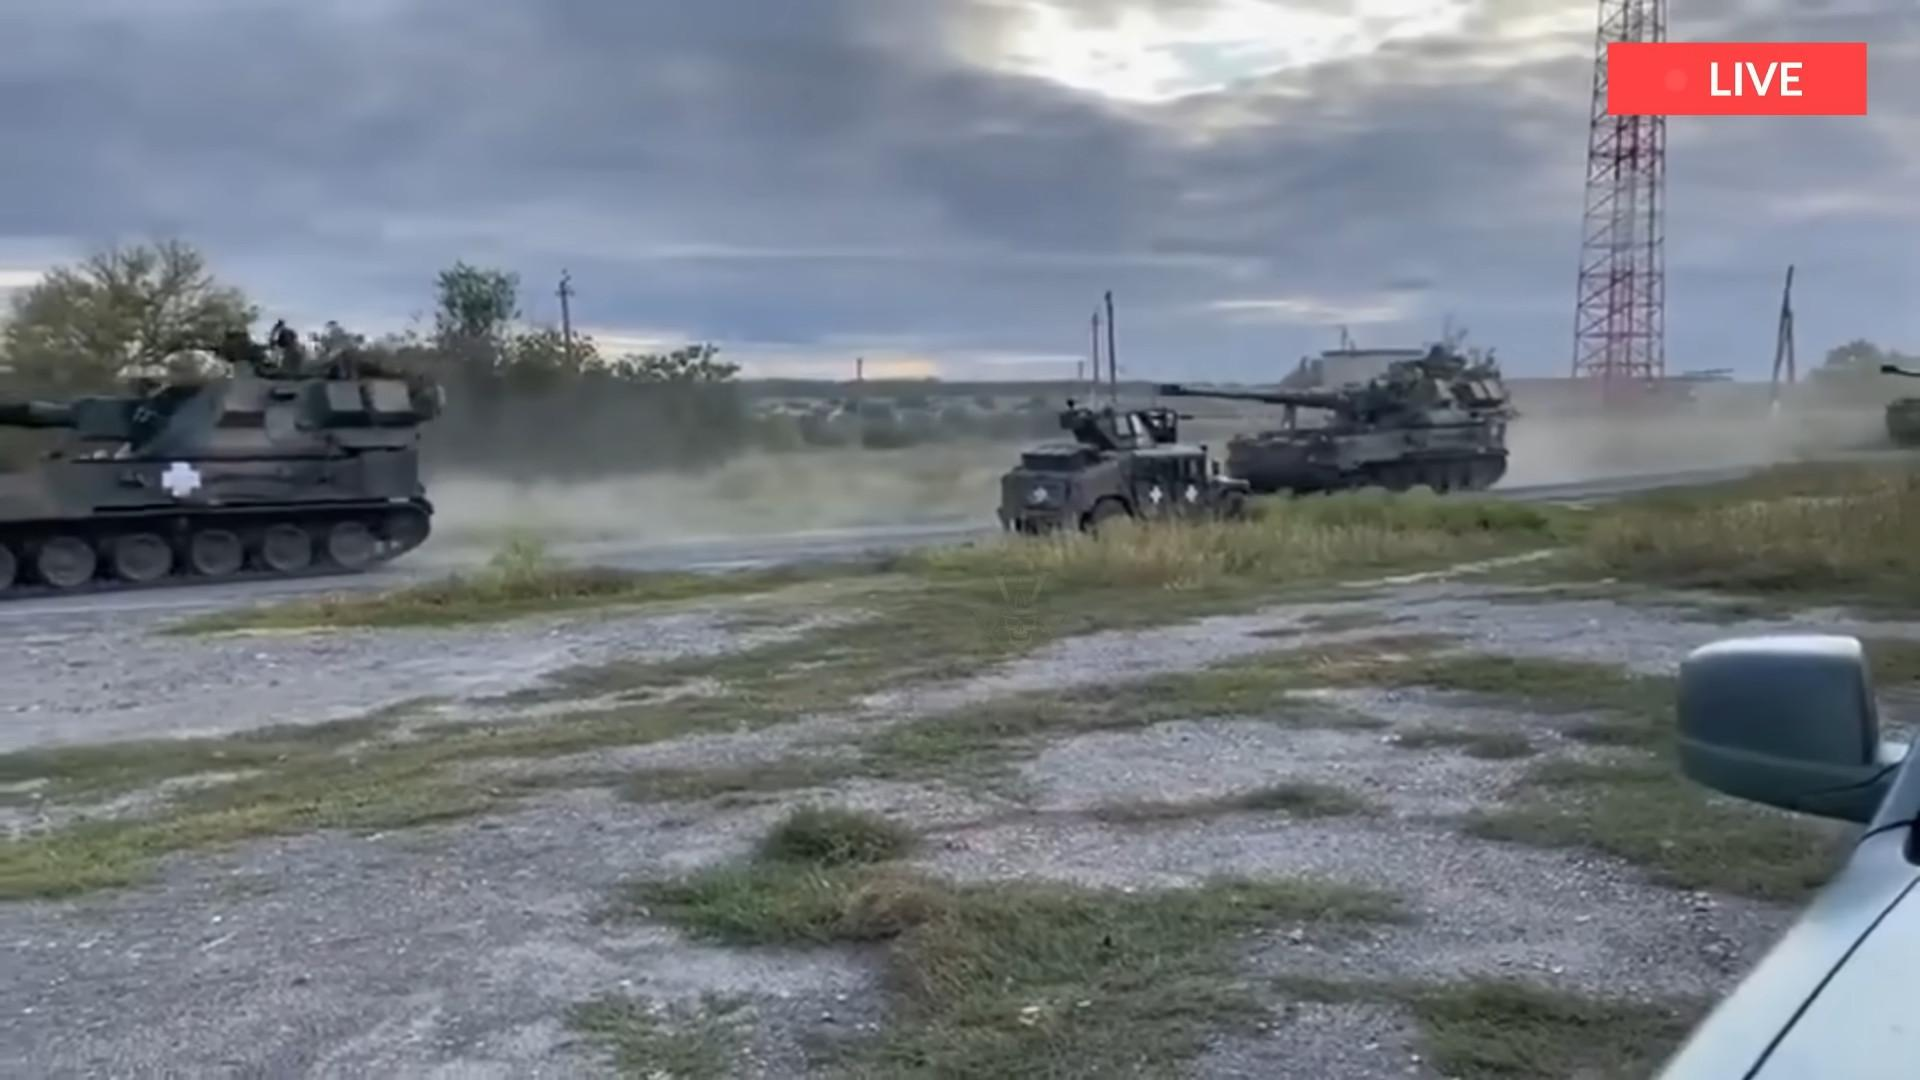tank: (23, 320, 438, 597), (1155, 343, 1510, 495)
